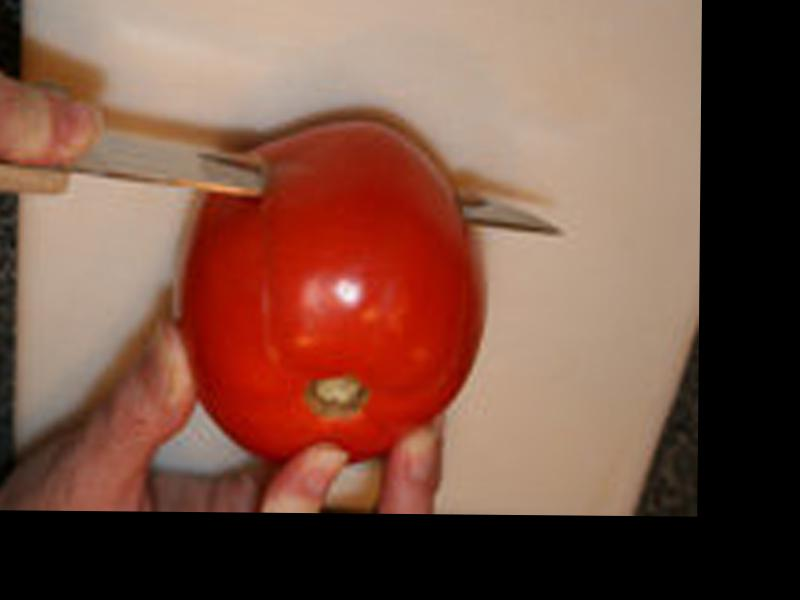Tomato: (179, 119, 490, 468)
